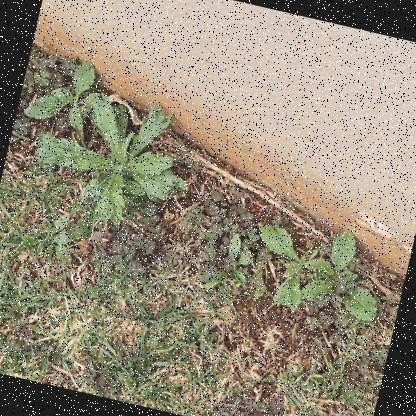Weeds: (20, 78, 206, 240), (20, 45, 123, 144), (299, 221, 395, 327), (242, 219, 339, 317)
